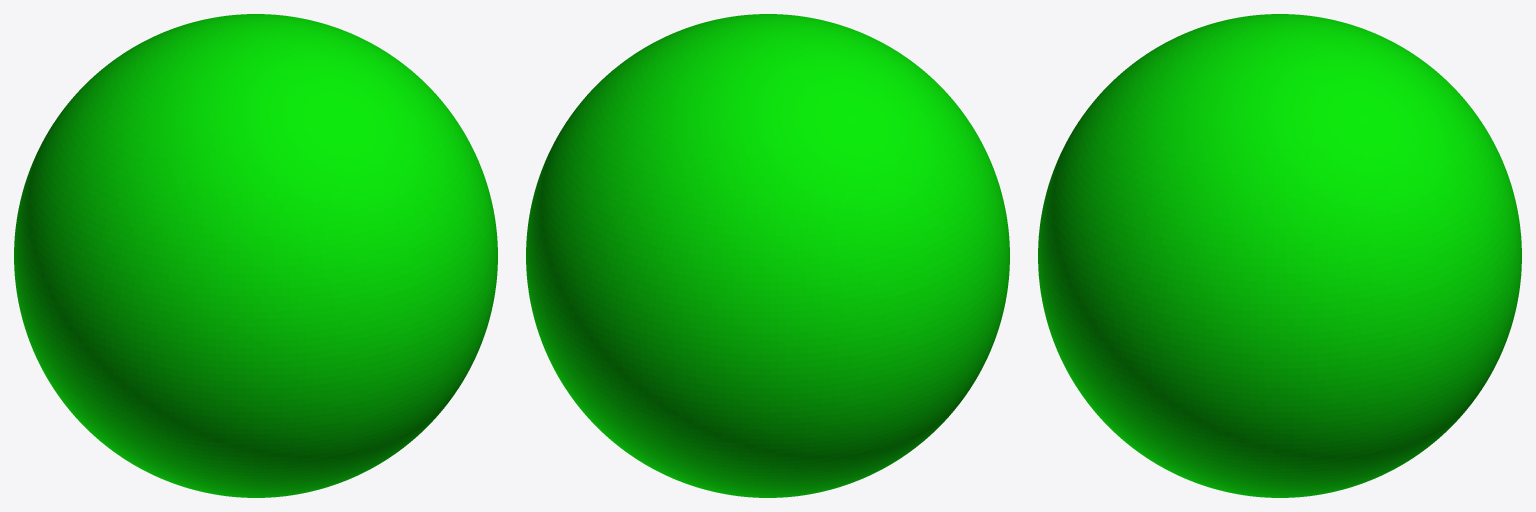
The model's file is sphereGreen.dae.
3 views of the same model, side by side, from view 1: azimuth 30°, elevation 25°; view 2: azimuth 150°, elevation 25°; view 3: azimuth 270°, elevation 25° (orthographic).
Visible parts, largest first — view 1: Sphere; view 2: Sphere; view 3: Sphere.
Boxes of the visible parts, x1,y1,x2,y2 form: Sphere: [14, 14, 497, 497]; Sphere: [526, 14, 1009, 497]; Sphere: [1038, 14, 1521, 497].
Size of the model in its own units: 0.0635 by 0.0635 by 0.0635.
